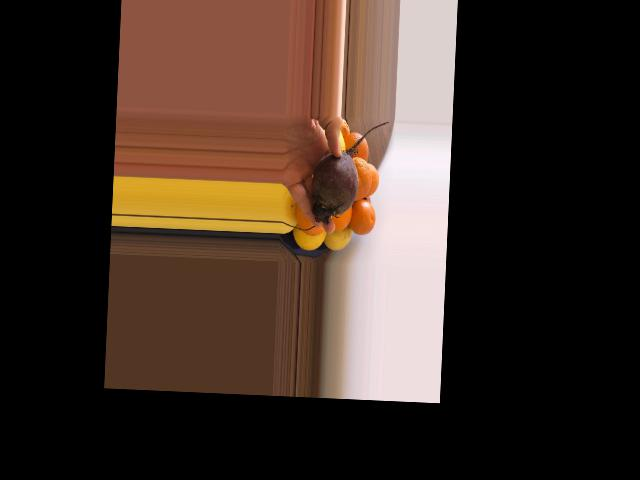beet: (310, 118, 388, 225)
